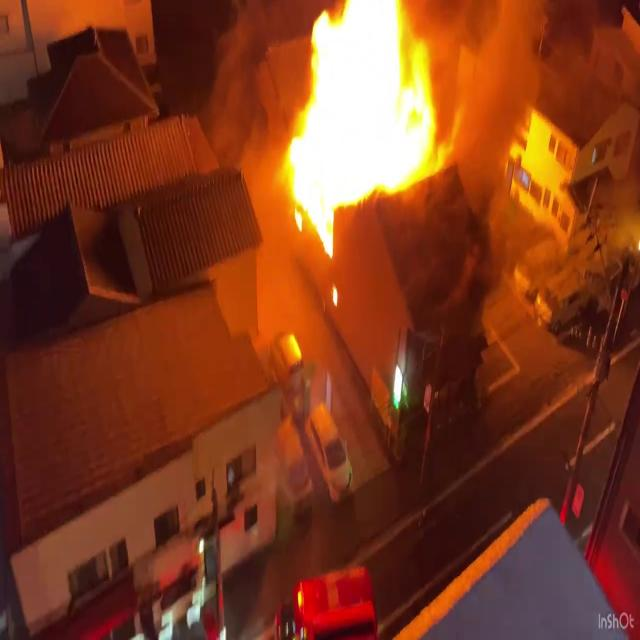Fire: (280, 1, 448, 240)
